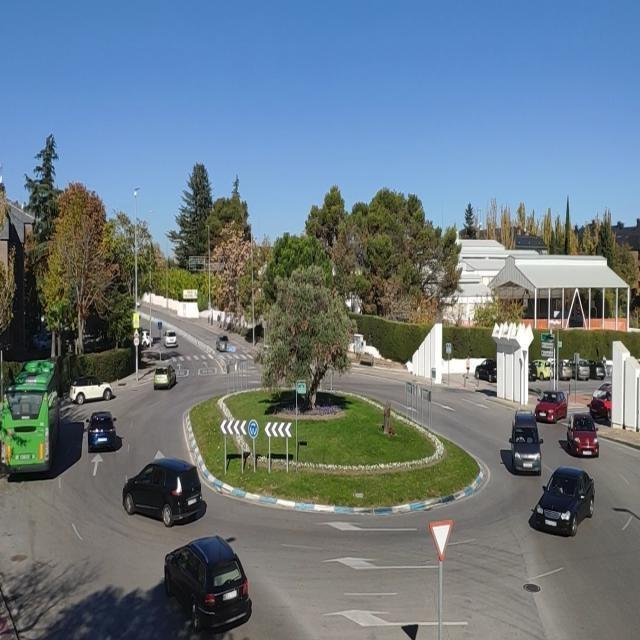Bus: (0, 352, 68, 487)
Car: (150, 543, 268, 635), (118, 452, 220, 537), (528, 464, 600, 545), (500, 409, 544, 478), (72, 405, 128, 458), (68, 366, 134, 406), (567, 400, 608, 462), (151, 364, 181, 390), (68, 388, 75, 406)
